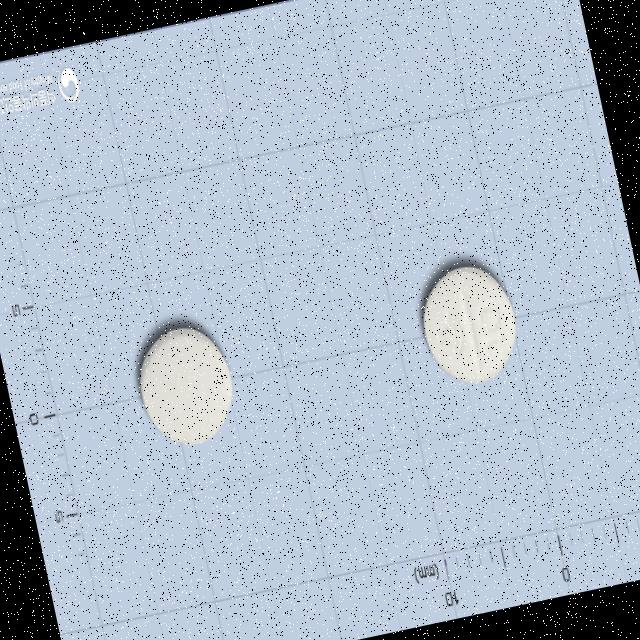CLARITYNE: (405, 245, 534, 404), (125, 313, 246, 461)
